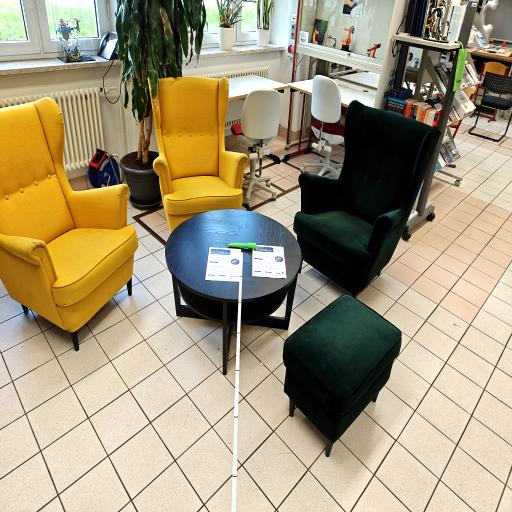Probe-Detection: (227, 243, 256, 250)
